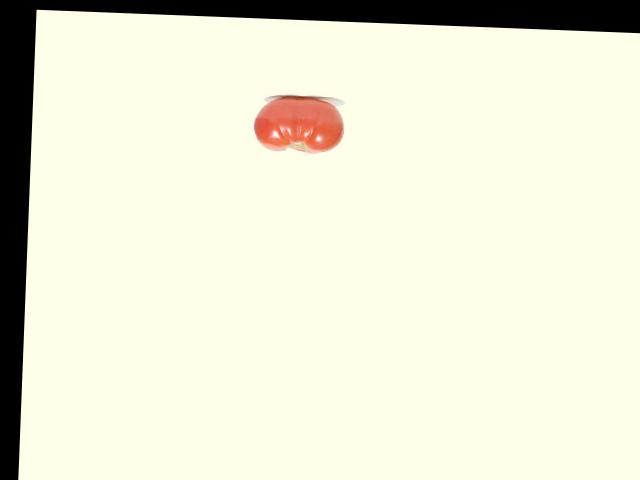tomato: (252, 96, 344, 154)
